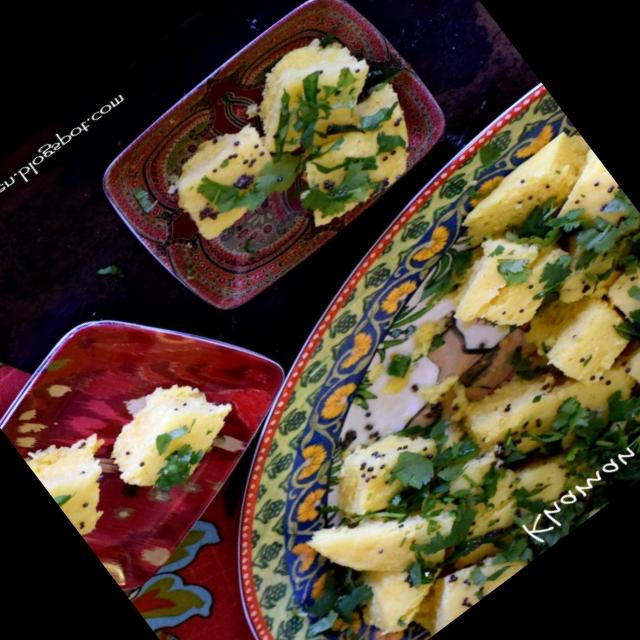dhokla: (206, 127, 640, 640), (149, 21, 429, 284), (29, 352, 238, 551)
